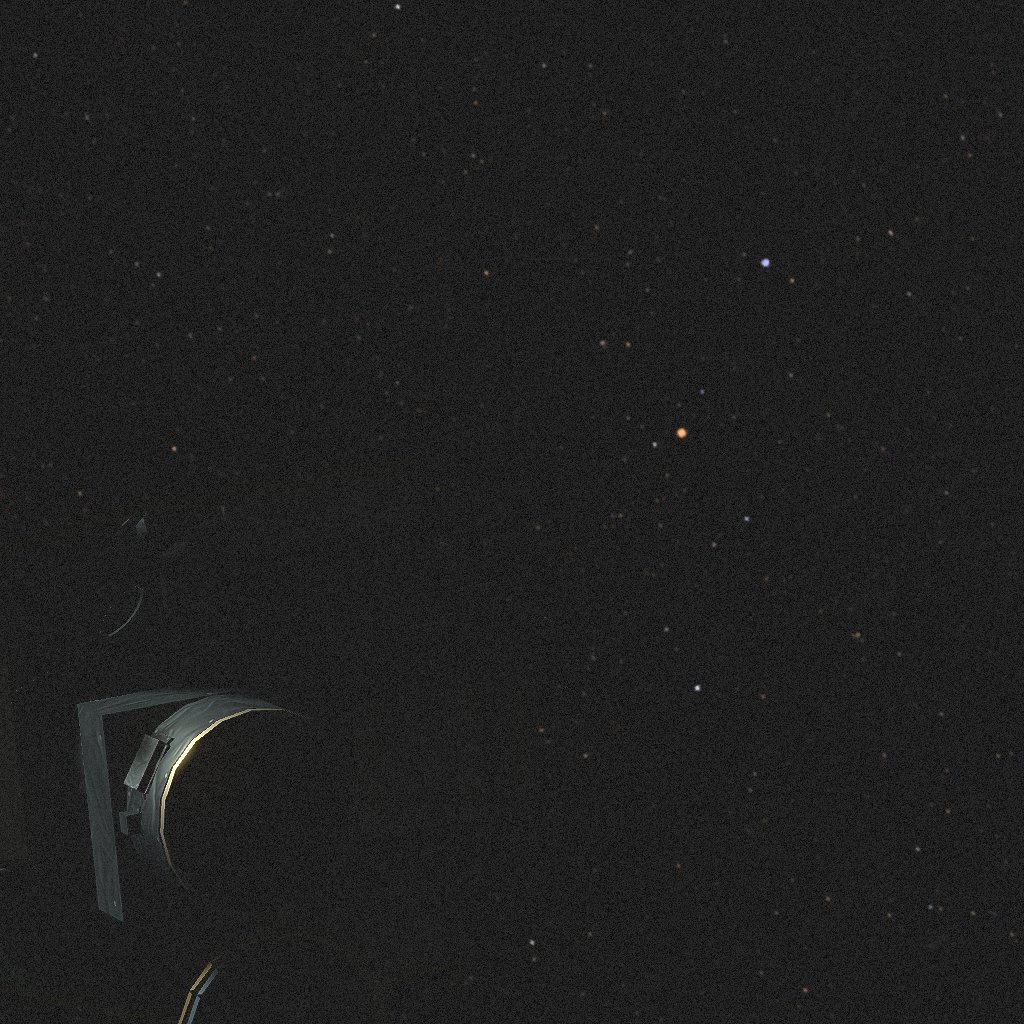cheops: (0, 457, 558, 1024)
